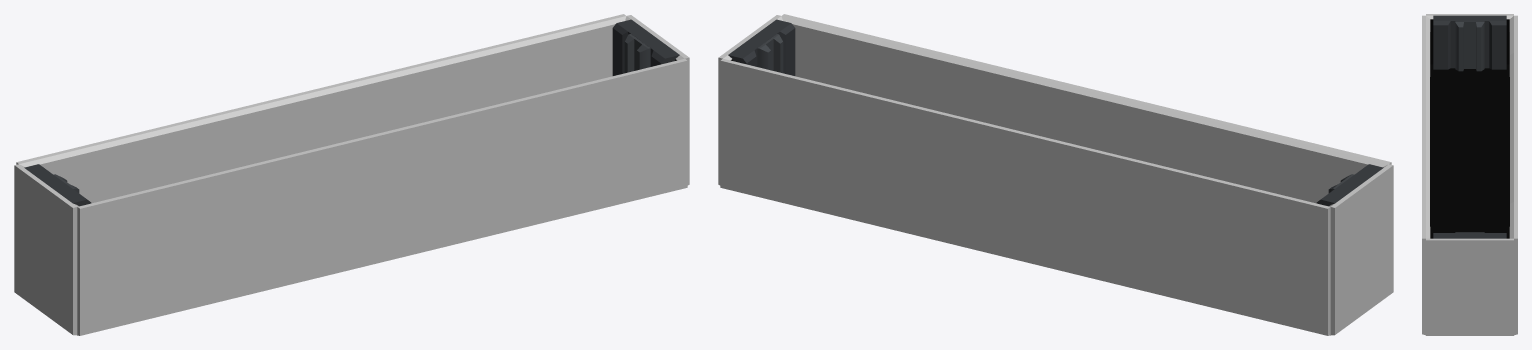
The model's file is SM_Bld_Gate_Fort_Slot_01.fbx.
3 renders of one model, left to right at view 1: azimuth 30°, elevation 25°; view 2: azimuth 150°, elevation 25°; view 3: azimuth 270°, elevation 25°, orthographic. The views are drawn at different scales.
Parts seen in each view (by area): view 1: SM_Bld_Gate_Fort_Slot_01; view 2: SM_Bld_Gate_Fort_Slot_01; view 3: SM_Bld_Gate_Fort_Slot_01.
Part boxes in pixels (left/top/right/bottom): SM_Bld_Gate_Fort_Slot_01: left=14, top=14, right=689, bottom=335; SM_Bld_Gate_Fort_Slot_01: left=718, top=14, right=1393, bottom=335; SM_Bld_Gate_Fort_Slot_01: left=1422, top=14, right=1517, bottom=335.
Bounding box in the file's own units: 3045 × 607 × 545.
